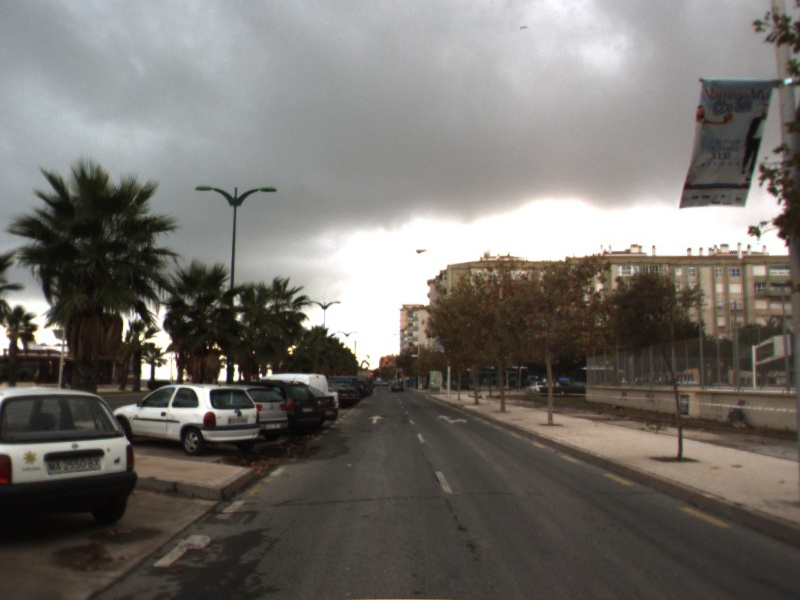STRAIGHT: (366, 413, 385, 425)
STRAIGHT_RIGHT: (436, 413, 470, 425)
